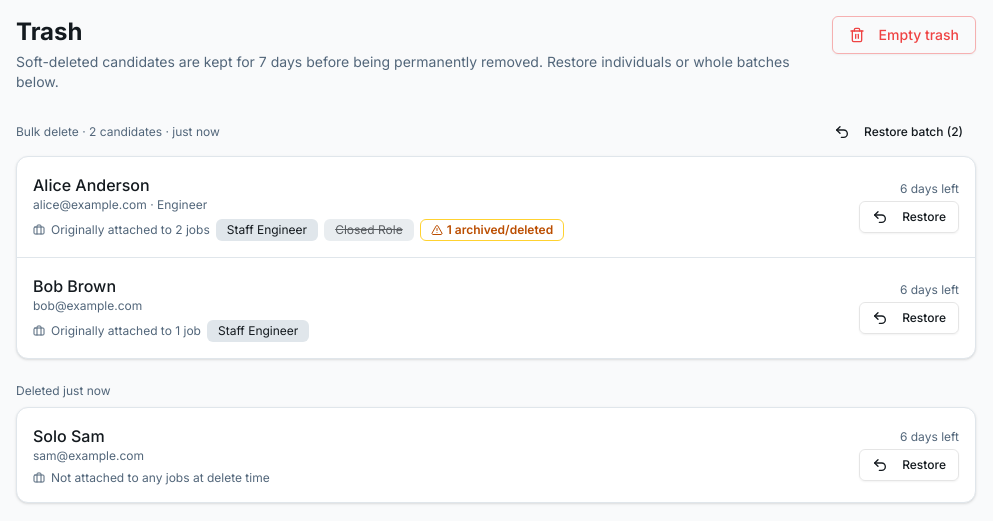
Scenario: TrashPage › restore toast description always renders, including the no-attachments case
Click the button with test id "restore-3".
click(909, 465)  # box x1=859 y1=449 x2=959 y2=481
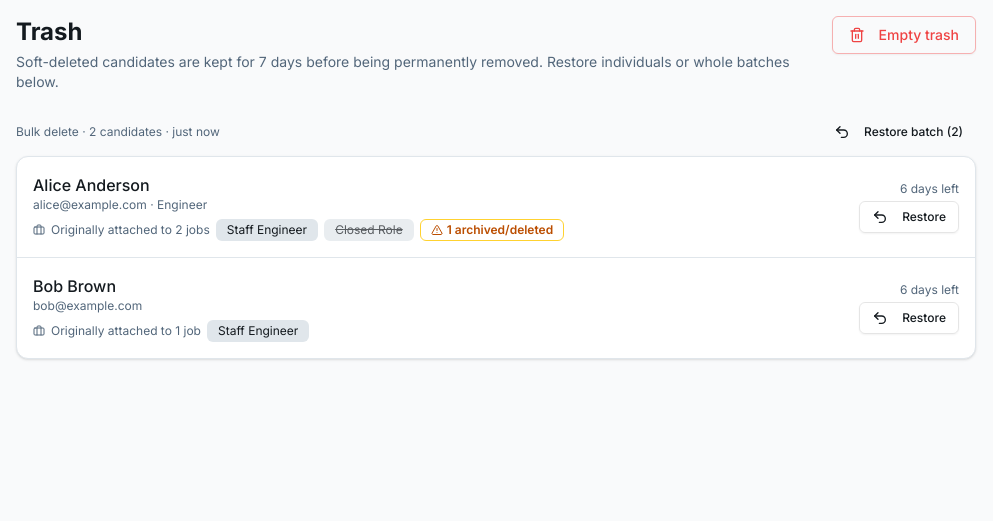
Expected: the element with test id "trash-row-3" is gone
